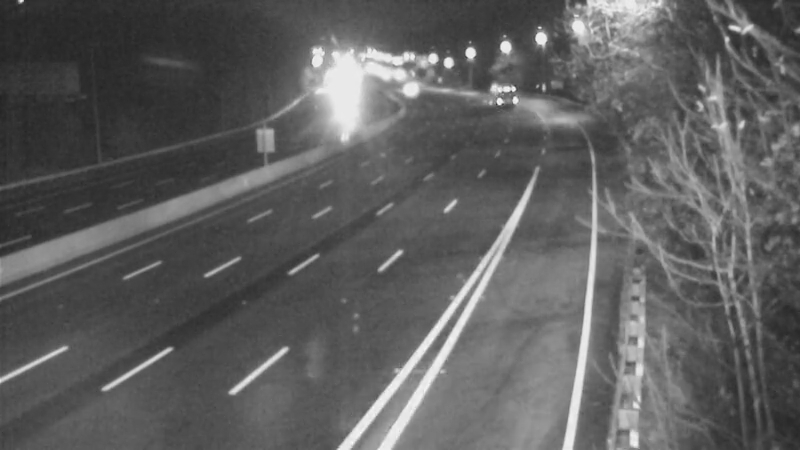vehicle: (383, 63, 433, 113), (471, 68, 521, 118), (317, 77, 367, 127)
